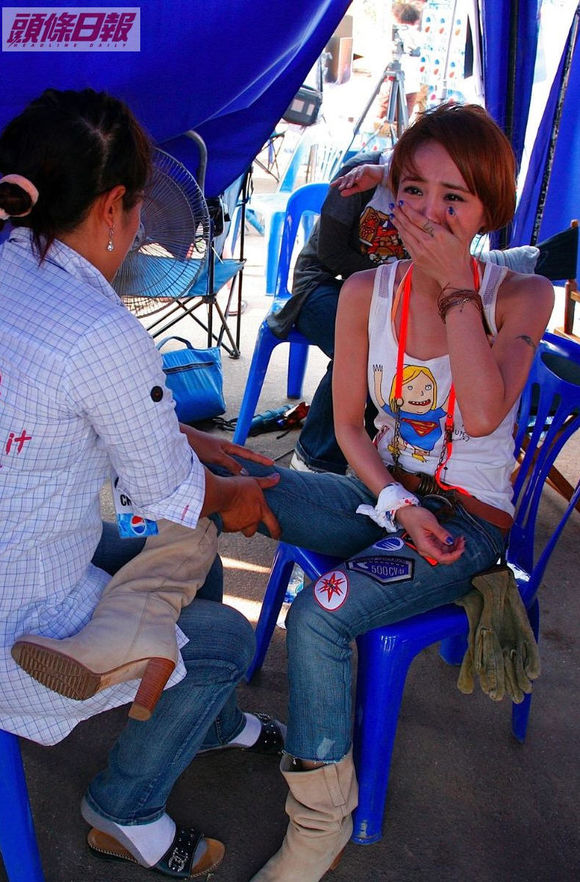face: (396, 142, 480, 274)
